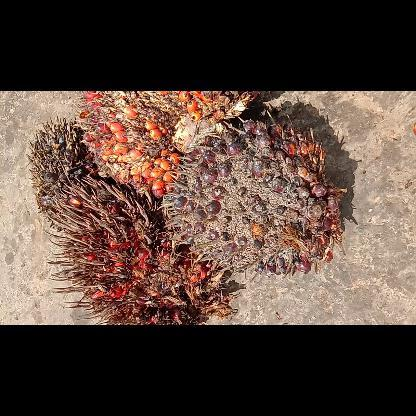Kurang masak: (161, 117, 344, 275)
TBS abnormal: (27, 114, 150, 226)
TBS masak: (76, 92, 258, 196)
Terlalu masak: (49, 186, 235, 324)
